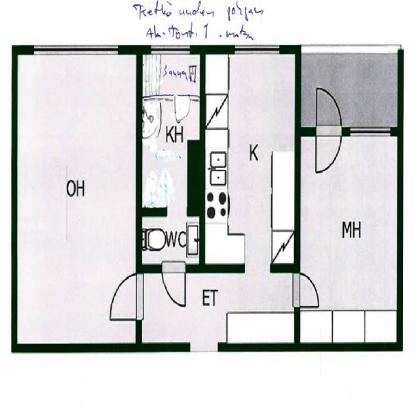door: (314, 86, 344, 181), (107, 274, 148, 326), (160, 262, 189, 312), (290, 272, 321, 314), (173, 89, 189, 125)
window: (32, 44, 119, 61), (235, 43, 282, 57), (150, 43, 191, 57)
zone: (17, 54, 135, 342), (299, 134, 397, 342), (206, 53, 294, 265), (143, 53, 199, 264), (138, 271, 295, 343), (303, 53, 395, 126)
